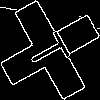T: (25, 25, 80, 74)
